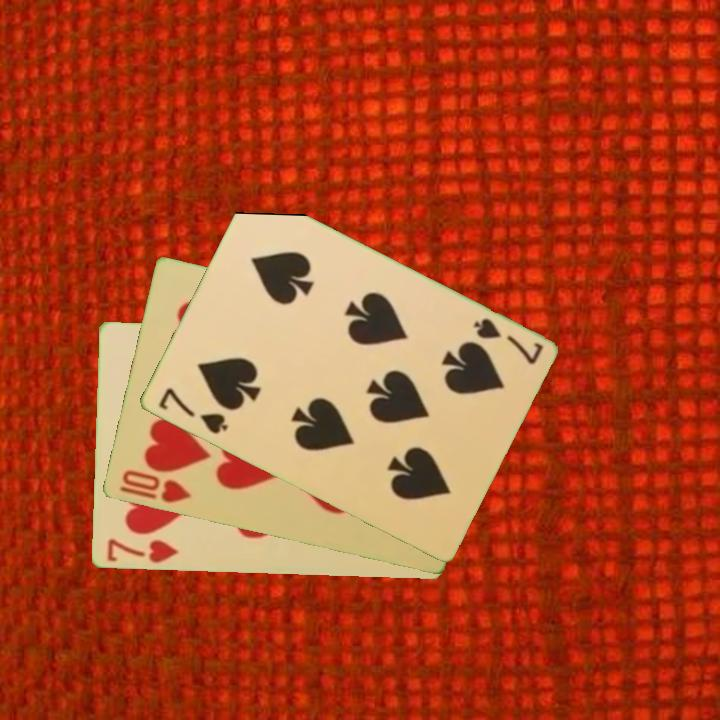10h: (115, 467, 193, 506)
7h: (103, 535, 181, 567)
7s: (154, 384, 230, 437), (469, 315, 545, 368)
